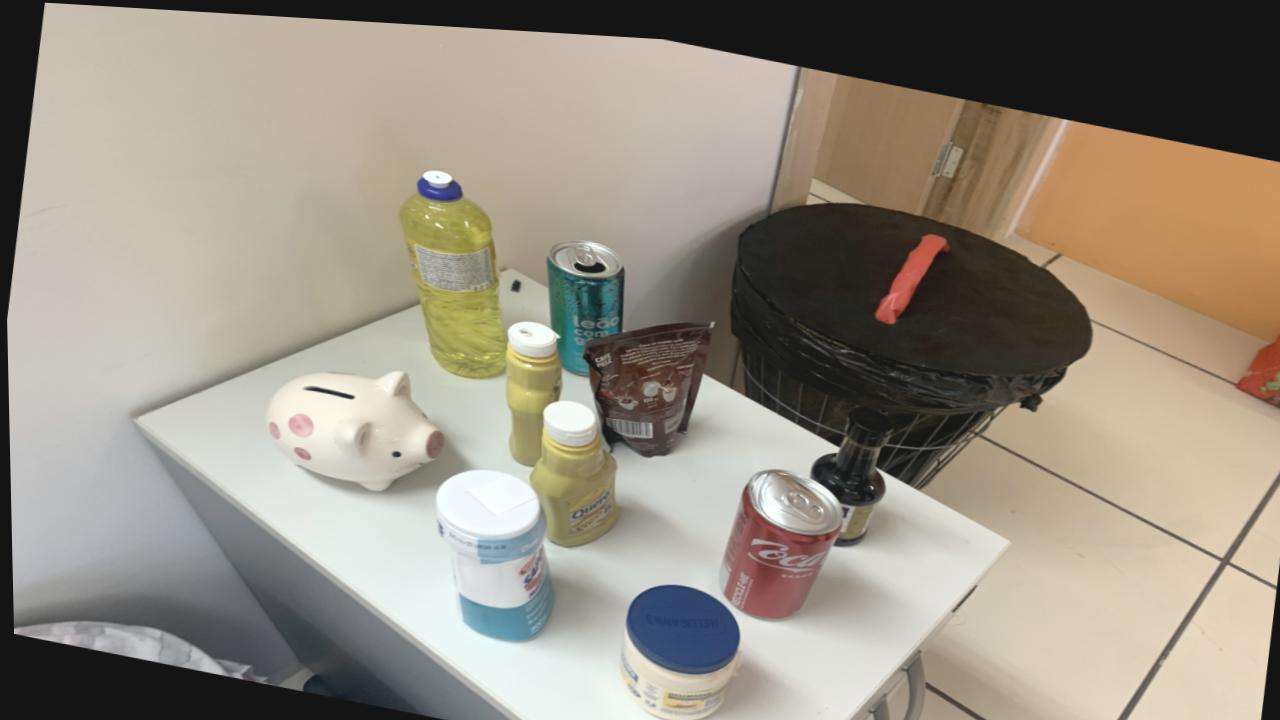Cleaner-Cleanup_Items: (433, 463, 551, 635)
Coffee-Pantry_Items: (583, 313, 712, 449)
Coke-Drinks: (716, 459, 841, 610)
Detergent-Cleanup_Items: (397, 163, 504, 372)
English_Sauce-Pantry_Items: (807, 396, 890, 535)
Mayonnaise-Pantry_Items: (616, 576, 739, 713)
Mustard-Pantry_Items: (527, 393, 615, 539), (503, 314, 561, 459)
Pig_Safe-Miscellaneous: (262, 365, 443, 486)
Tea-Drinks: (545, 232, 624, 368)
